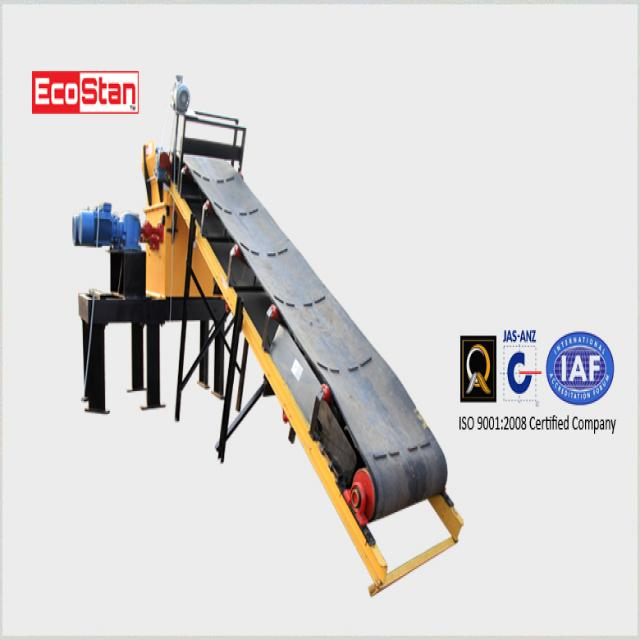Broyeur: (136, 137, 169, 195)
Convoyeur: (166, 144, 460, 542)
